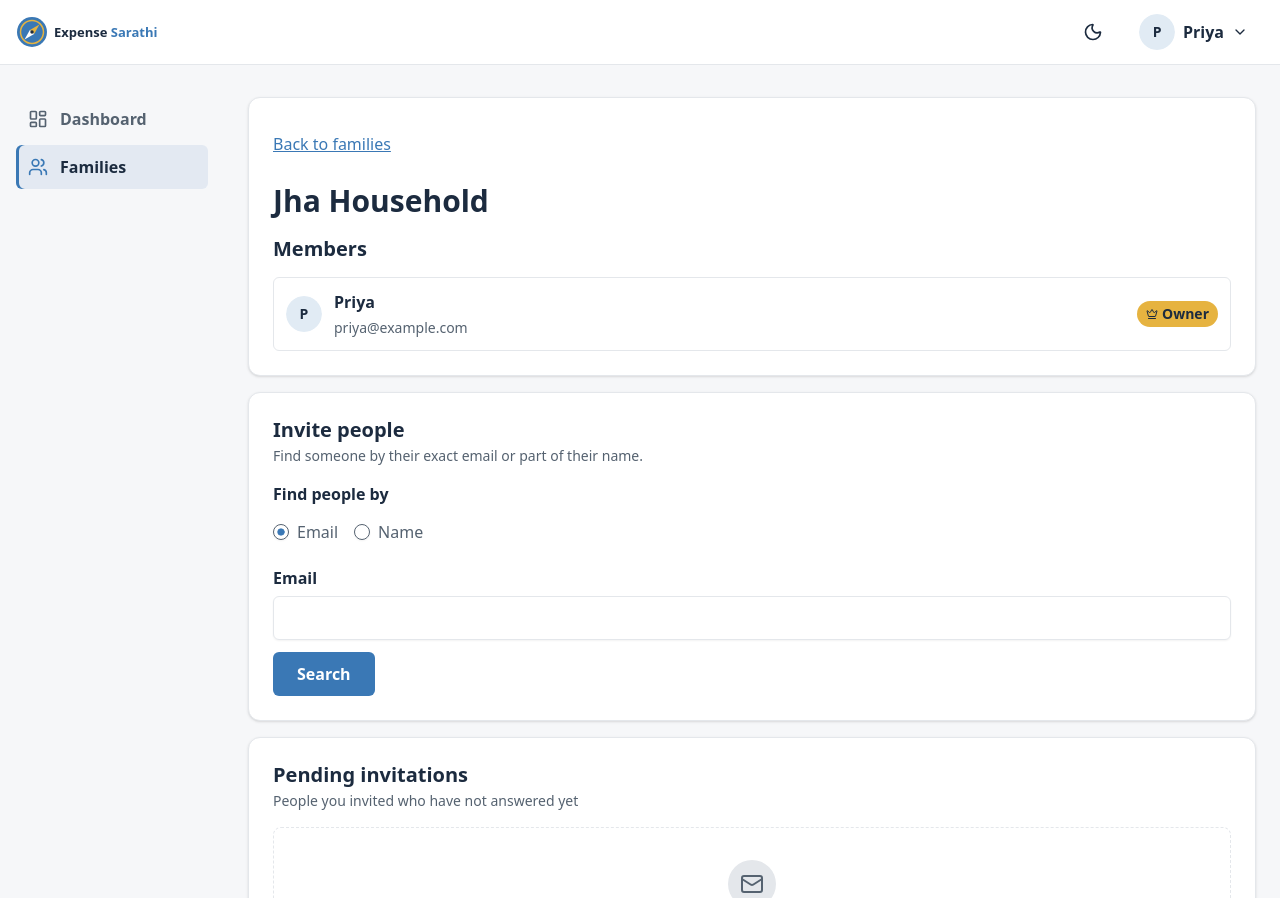
Test: Family detail page › asks for at least 3 characters before a name search
Click the 2nd radio button named "Name".
click(362, 532)  # box [354,524,370,540]
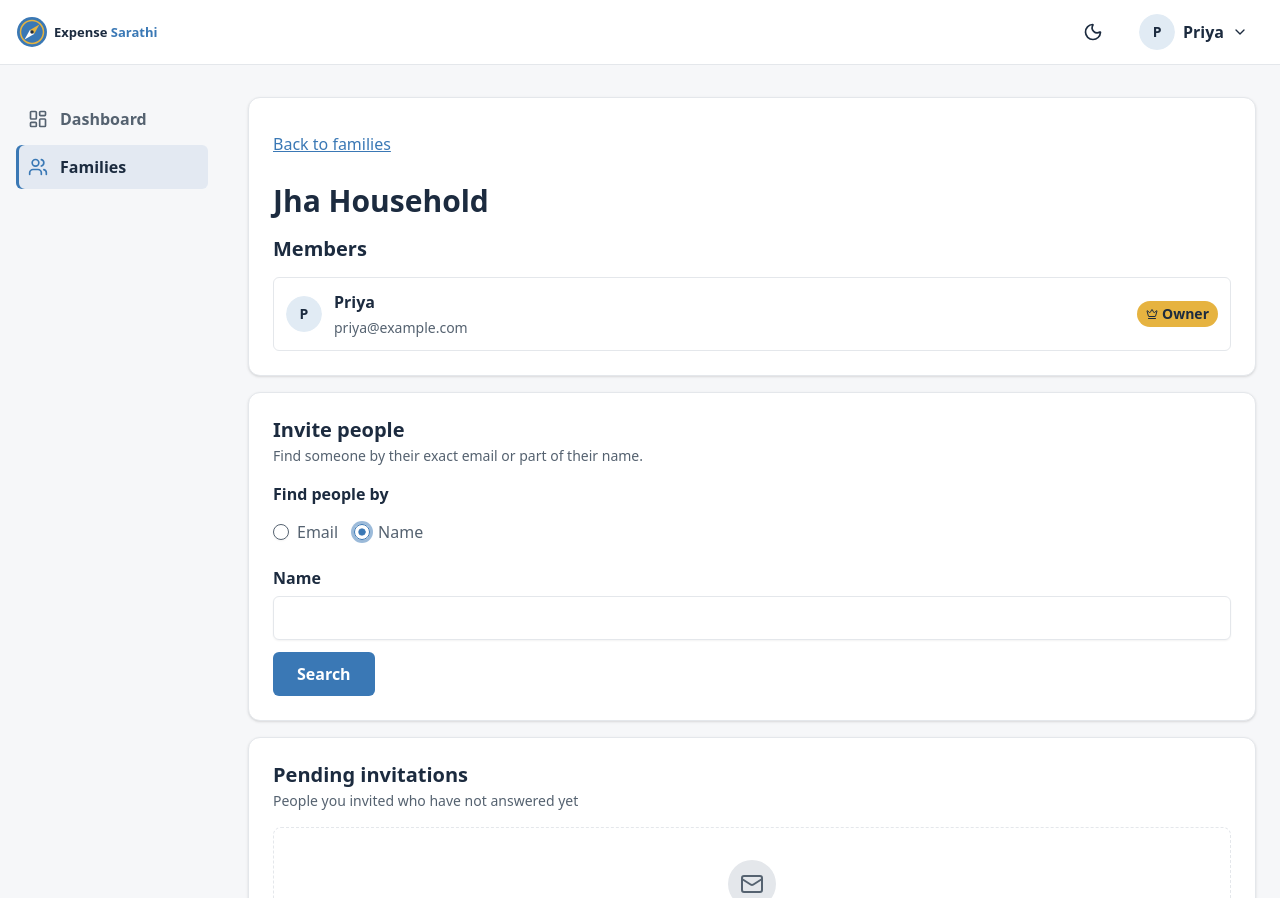
Type "ra" into the field labelled "Name".
click(752, 618); type("ra")  # box [273,596,1231,640]
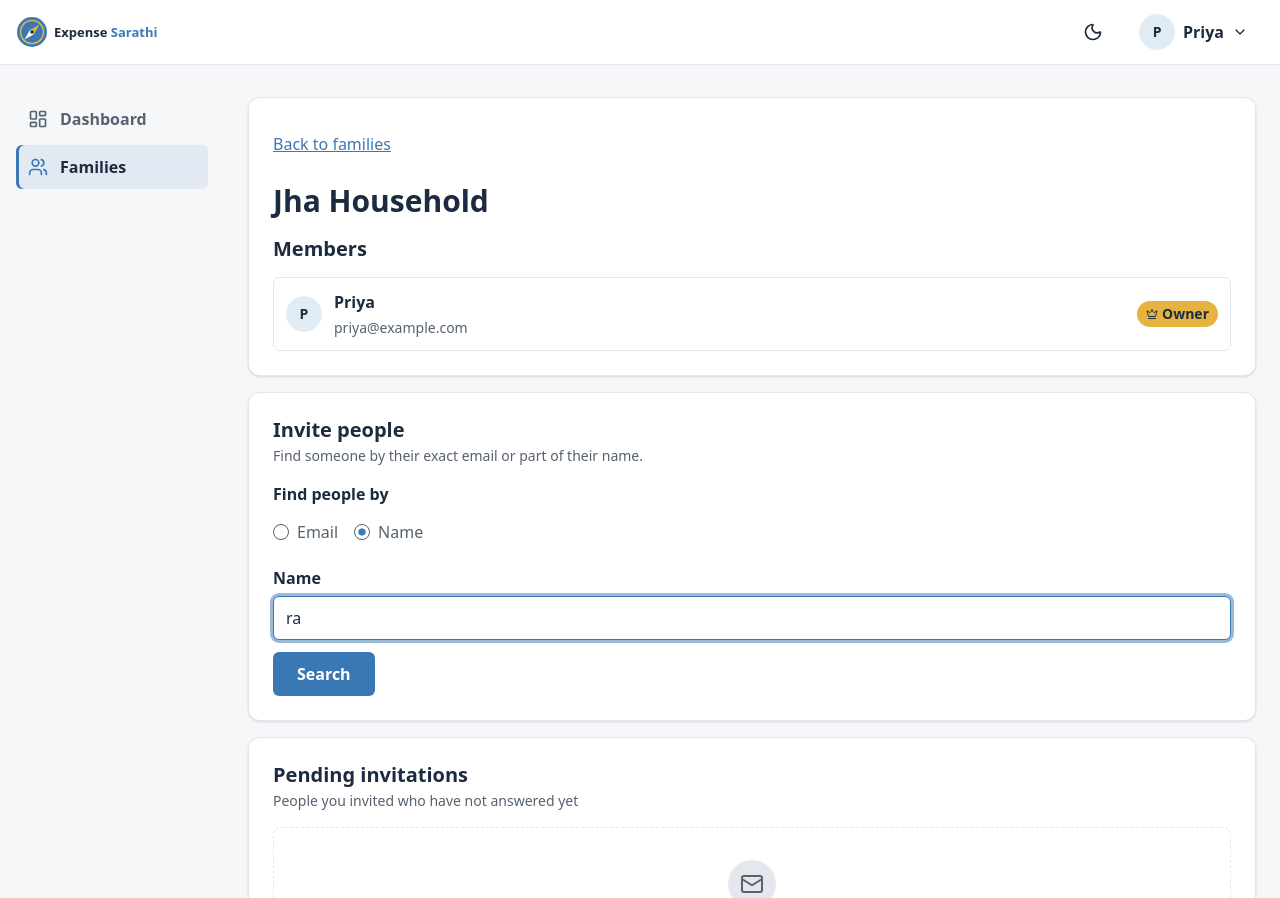
Click the button "Search".
click(324, 674)  # box [273,652,375,696]
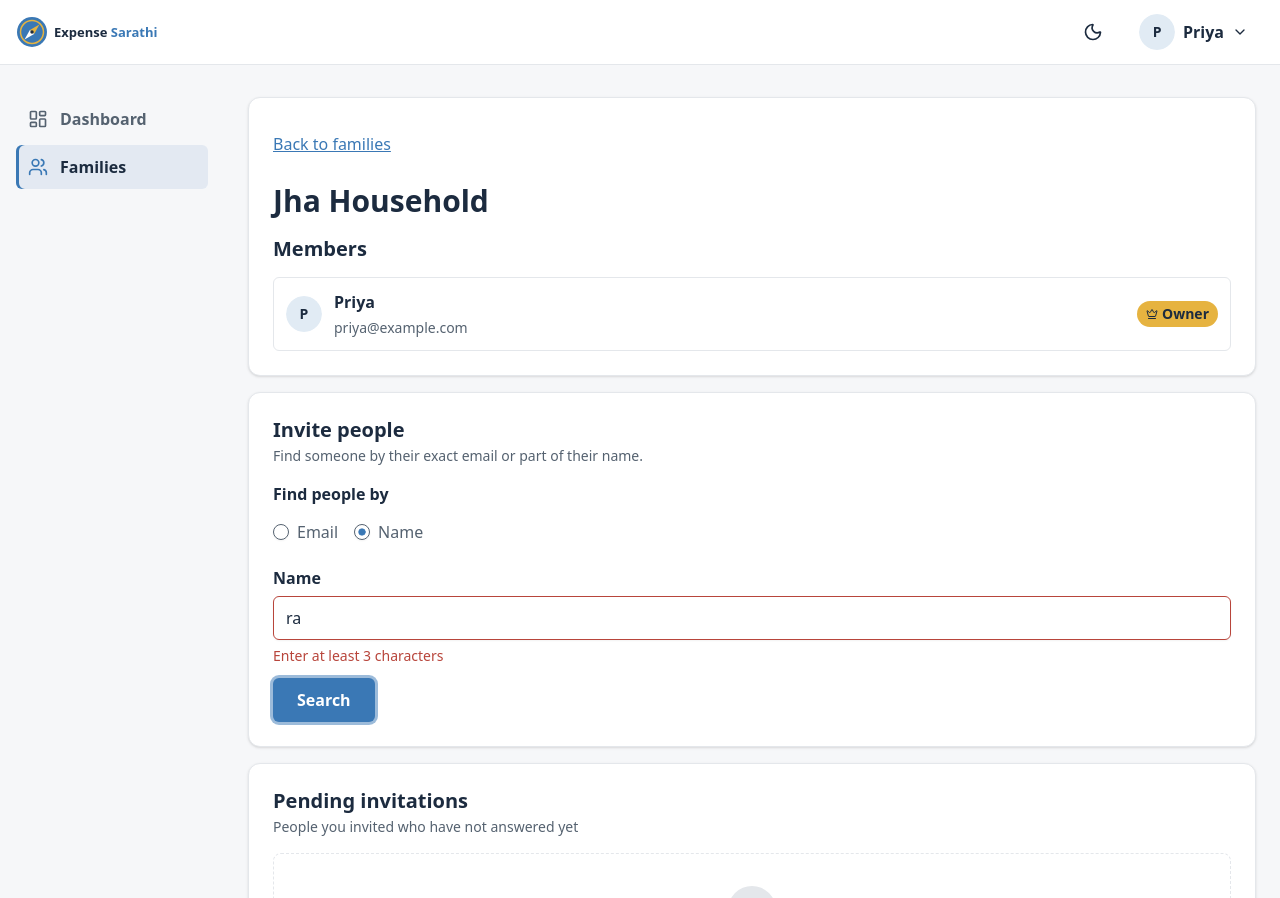
Result: the text "Enter at least 3 characters" is shown at [273,646,444,664]
